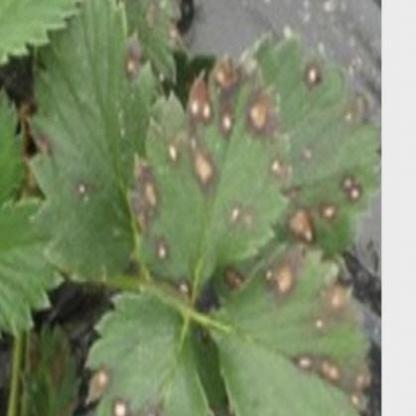Strawberry_Leaf_Spot: (210, 32, 380, 306), (127, 48, 294, 306), (24, 0, 166, 285), (204, 242, 372, 415), (84, 287, 228, 415)
